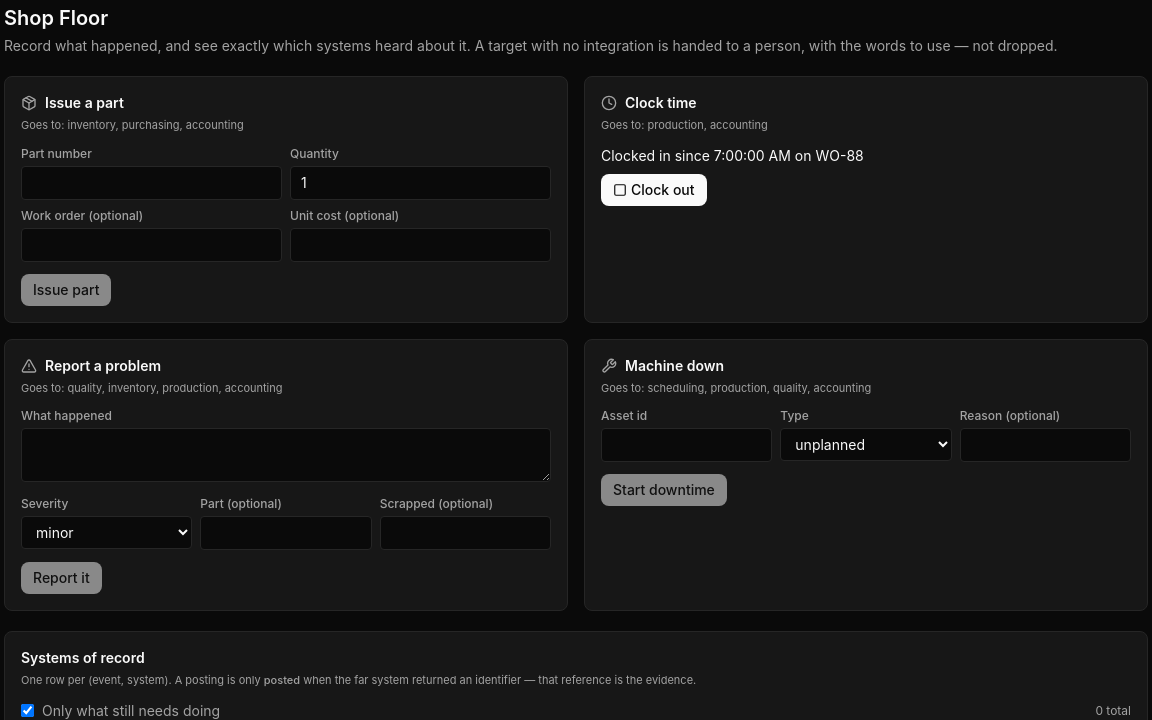
Scenario: a failed clock action says what did not happen › tells an operator leaving the floor that their clock is still running
This screenshot has width=1152, height=720.
Step 1. Click the button "Clock out" → (654, 190), box [601,174,706,206]
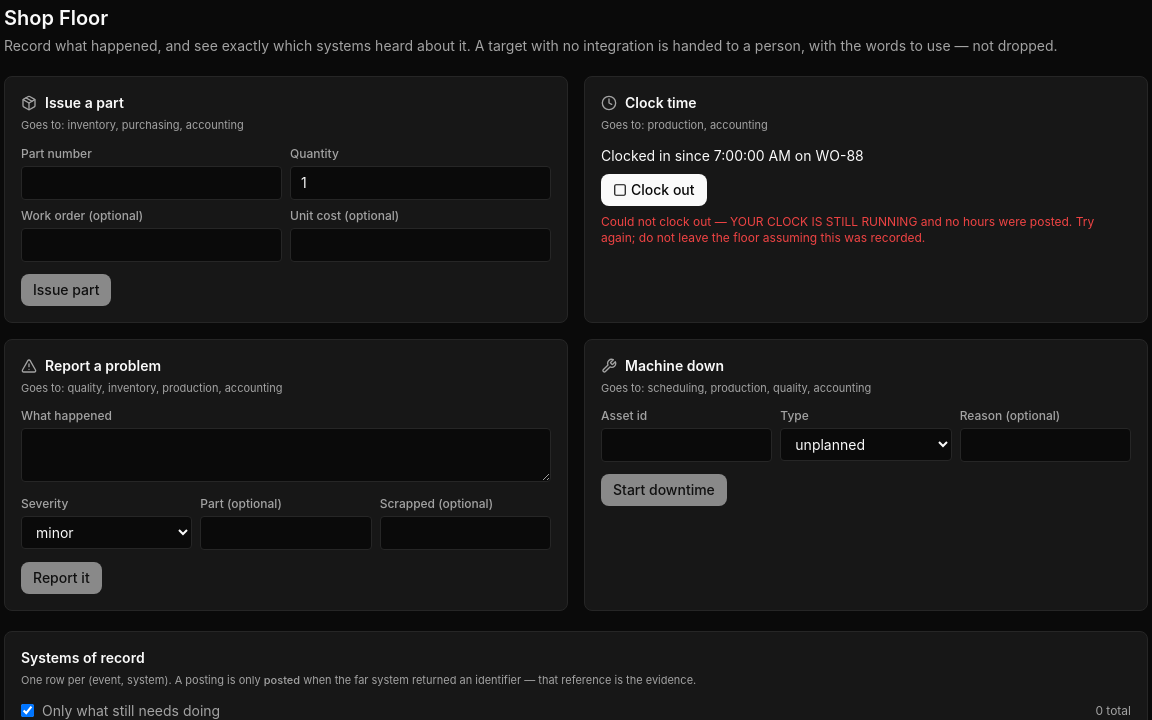
Check: the text "no hours were posted" is shown, box [601,214,1094,244]
